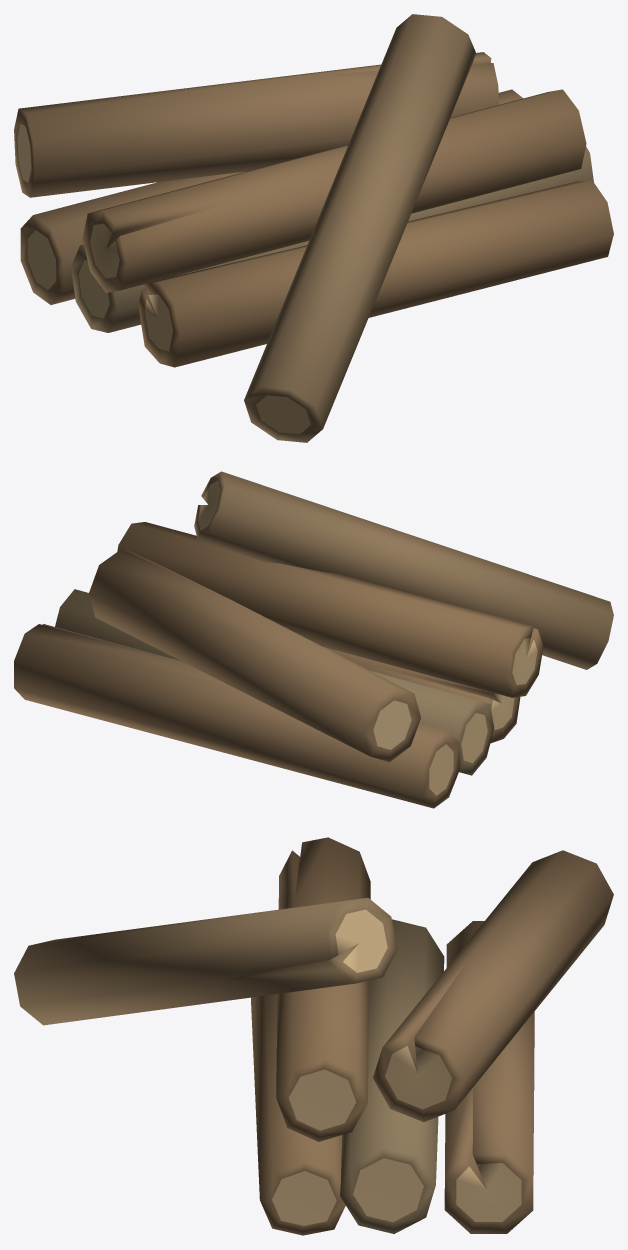
File: rpgpp_av_log_wood_01b.gltf
3 renders of one model, top to bottom at view 1: azimuth 30°, elevation 25°; view 2: azimuth 150°, elevation 25°; view 3: azimuth 270°, elevation 25°, orthographic. The views are drawn at different scales.
Parts seen in each view (by area): view 1: rpgpp_av_log_wood_01b; view 2: rpgpp_av_log_wood_01b; view 3: rpgpp_av_log_wood_01b.
Part boxes in pixels (x1,y1,x2,y2): rpgpp_av_log_wood_01b: [14, 14, 613, 442]; rpgpp_av_log_wood_01b: [14, 471, 613, 808]; rpgpp_av_log_wood_01b: [14, 837, 613, 1235].
Size of the model in its own units: 0.0221 by 0.0108 by 0.0222.
1 material, 1 textured.
